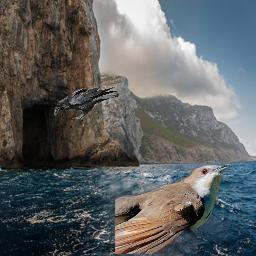Crow: (54, 87, 120, 119)
Cuckoo: (115, 164, 232, 254)
